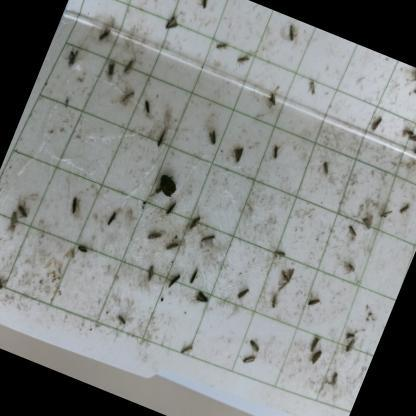prays_oleae: (356, 105, 392, 155), (300, 283, 329, 319), (60, 187, 88, 222), (277, 16, 305, 48), (96, 56, 122, 88), (314, 152, 338, 186), (9, 192, 36, 222), (301, 324, 325, 357), (258, 85, 282, 117), (59, 41, 83, 73), (223, 141, 250, 169), (266, 240, 291, 270), (183, 204, 206, 236), (1, 207, 29, 233), (174, 335, 198, 364), (262, 140, 285, 169), (162, 268, 184, 298), (116, 82, 138, 112), (231, 48, 256, 74), (67, 236, 92, 262), (115, 48, 135, 80), (190, 284, 216, 308), (184, 263, 204, 294), (92, 20, 114, 48), (242, 332, 266, 357), (150, 122, 171, 150), (101, 202, 119, 234), (322, 364, 344, 390), (231, 276, 251, 304), (110, 306, 133, 329), (158, 198, 179, 223), (141, 261, 160, 288), (356, 210, 377, 234), (236, 350, 258, 372), (396, 118, 416, 142), (396, 194, 416, 218), (304, 74, 324, 98), (164, 230, 182, 256), (340, 254, 360, 277), (202, 126, 222, 149), (304, 345, 324, 367), (263, 289, 283, 311), (196, 228, 218, 248), (212, 32, 230, 56), (144, 226, 165, 246), (342, 218, 361, 240), (138, 90, 154, 116), (192, 0, 216, 15), (376, 204, 393, 224), (342, 336, 359, 354), (0, 268, 10, 297), (408, 75, 416, 107), (404, 129, 416, 146), (406, 68, 416, 88), (408, 145, 416, 160)
